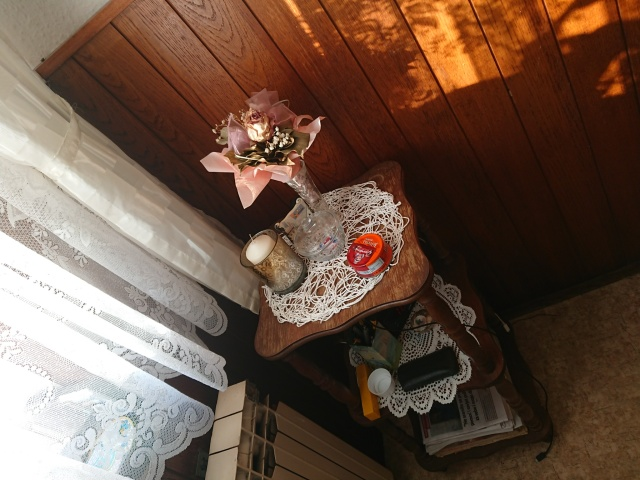Gavrilovic Pork Liver Pate 100g: (345, 232, 394, 278)
